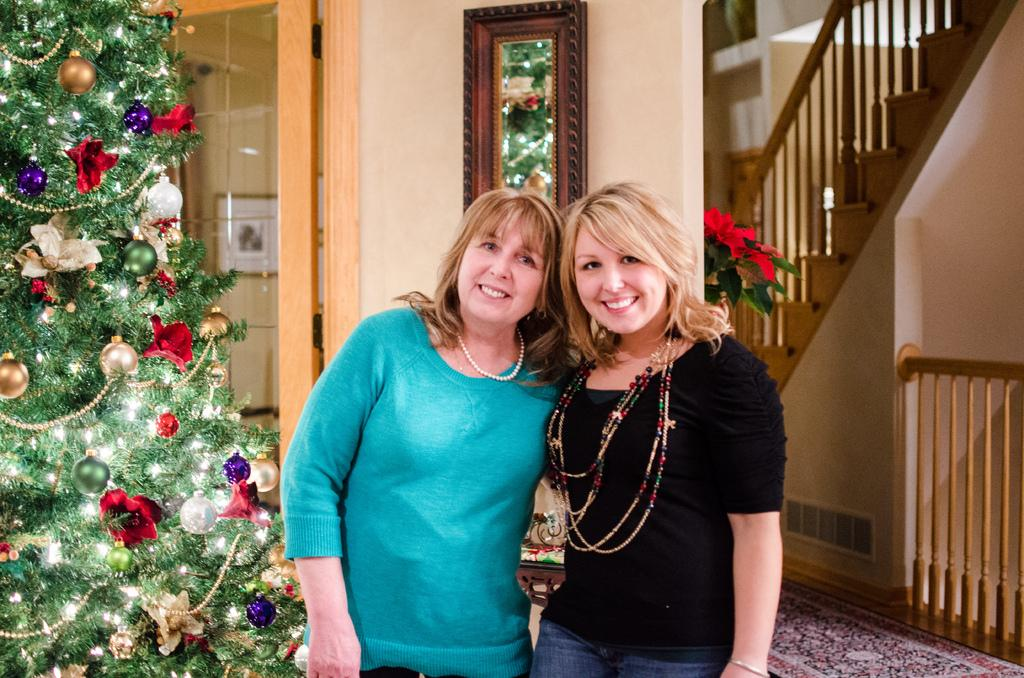Sem Máscara: (567, 211, 666, 339), (453, 208, 544, 323)
